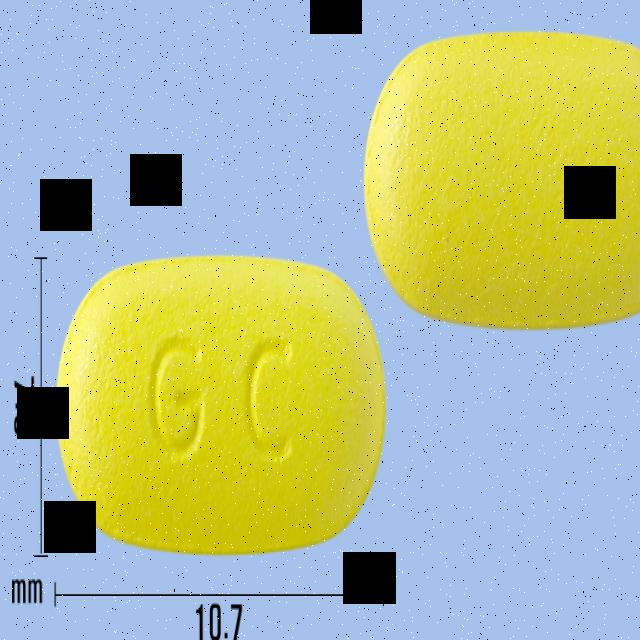Clarimicin: (51, 241, 388, 560)
